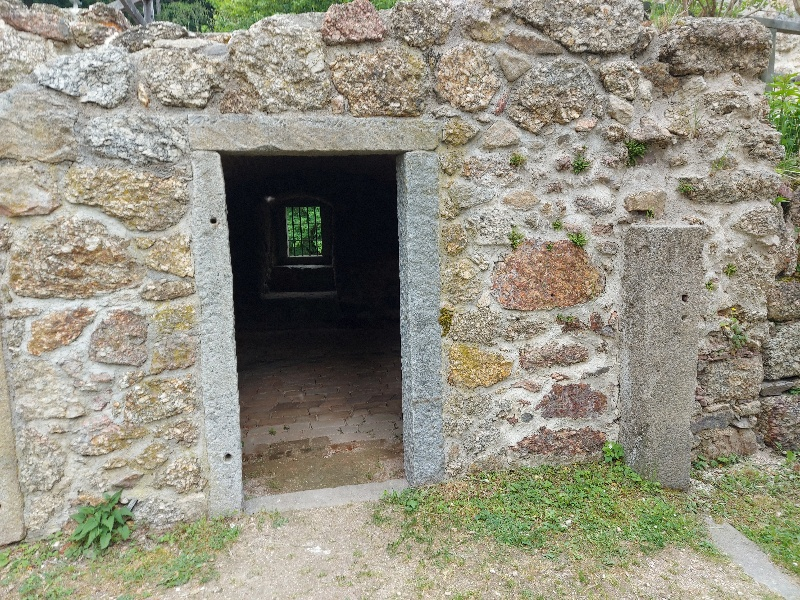door2: (169, 98, 496, 533)
